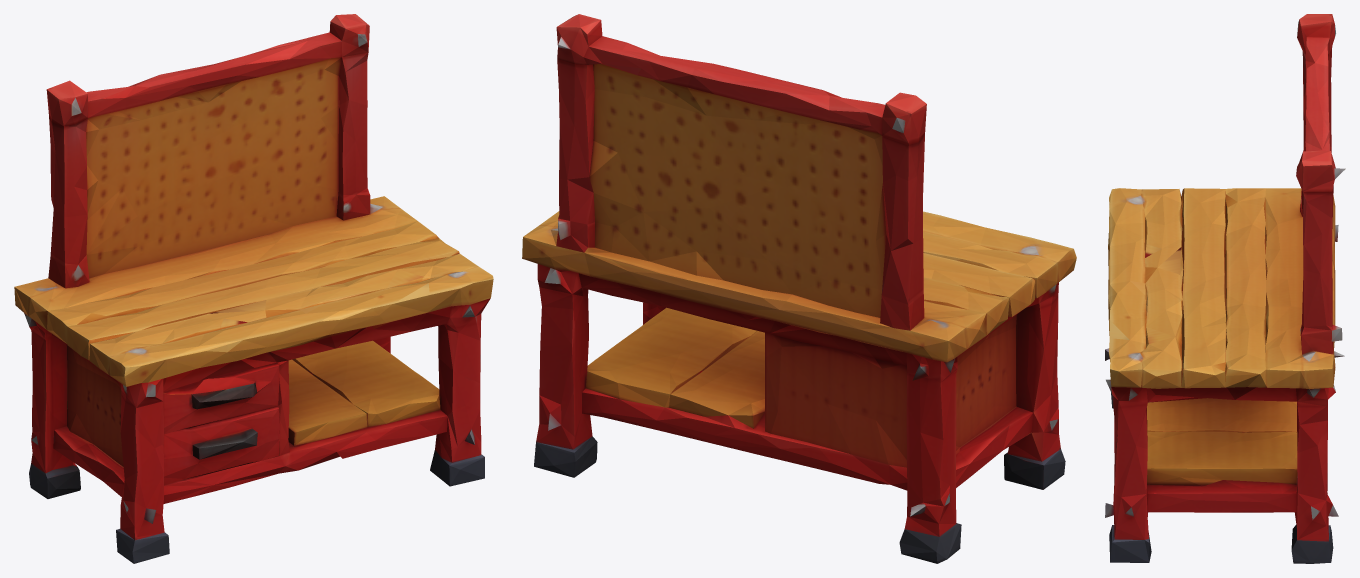
Rendered from workbench.glb.
3 views of the same model, side by side, from view 1: azimuth 30°, elevation 25°; view 2: azimuth 150°, elevation 25°; view 3: azimuth 270°, elevation 25° (orthographic). The views are drawn at different scales.
Visible parts, largest first — view 1: geometry_0; view 2: geometry_0; view 3: geometry_0.
Boxes of the visible parts, x1=… form: geometry_0: x1=14, y1=14, x2=493, y2=563; geometry_0: x1=522, y1=14, x2=1076, y2=563; geometry_0: x1=1105, y1=14, x2=1345, y2=563.
Bounding box in the file's own units: 1 × 1.01 × 0.5562.
Materials: 1 (1 with a texture image).
